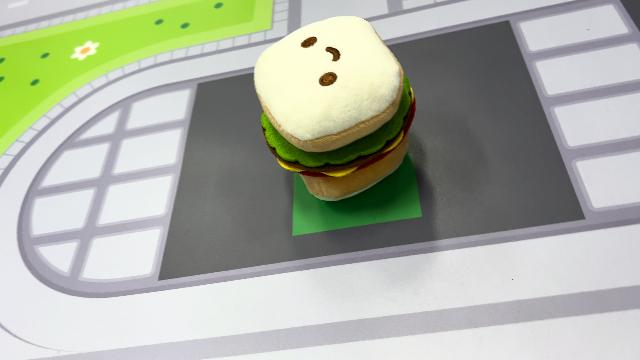sandwich: (251, 13, 419, 202)
